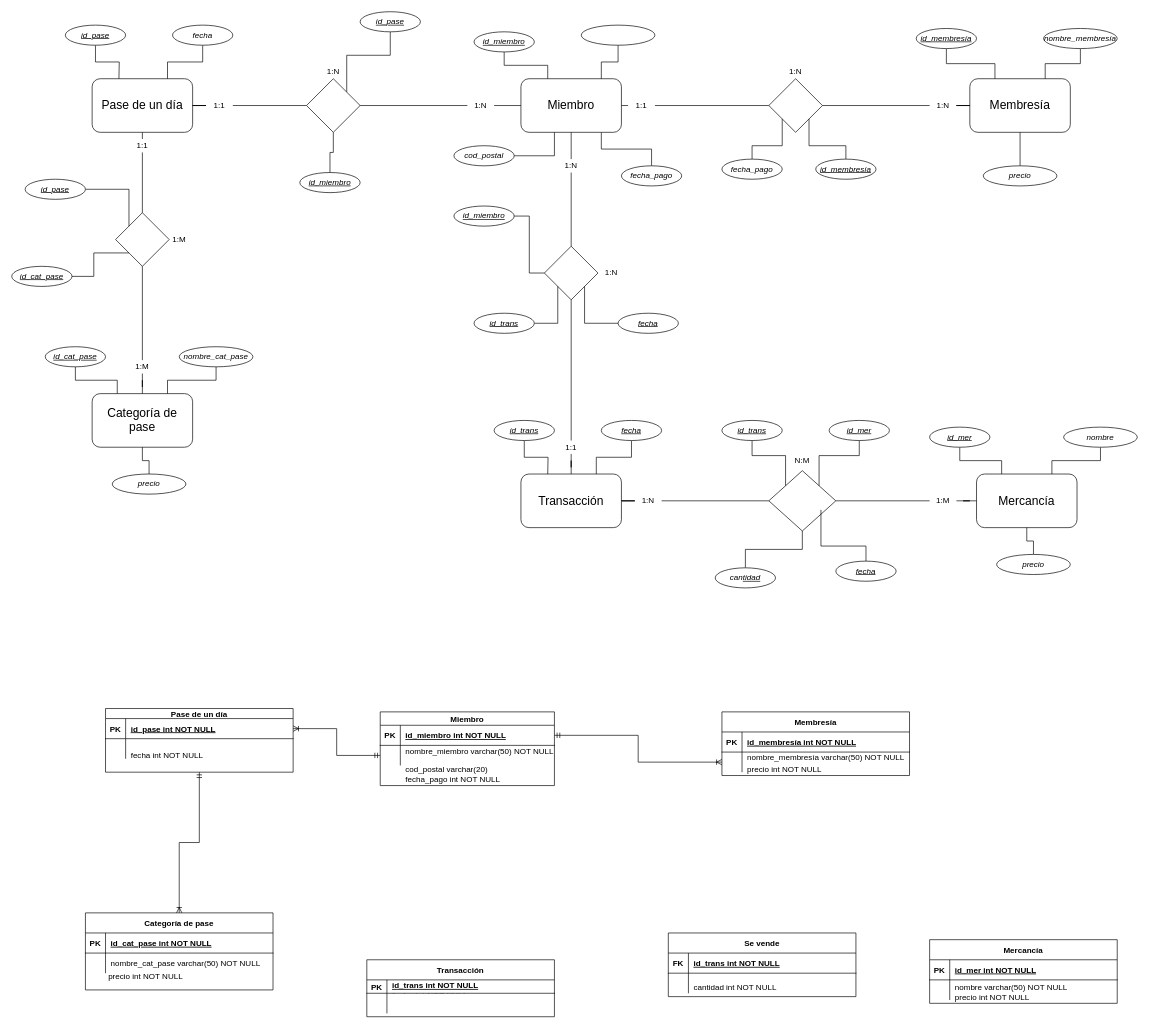
Some shapes in this 1149 by 1032 pixel diagram are drawn without their labels. The centre of each missing label's shape, as x and y in pixels:
comprar: point (333, 105)
involuvra: point (571, 273)
nombre_miembro: point (618, 34)
pagar: point (795, 105)
pertenece: point (142, 239)
se vende/ involucra: point (802, 500)
